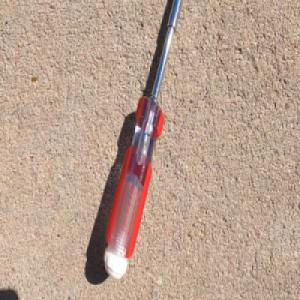Screwdriver: (102, 0, 183, 279)
